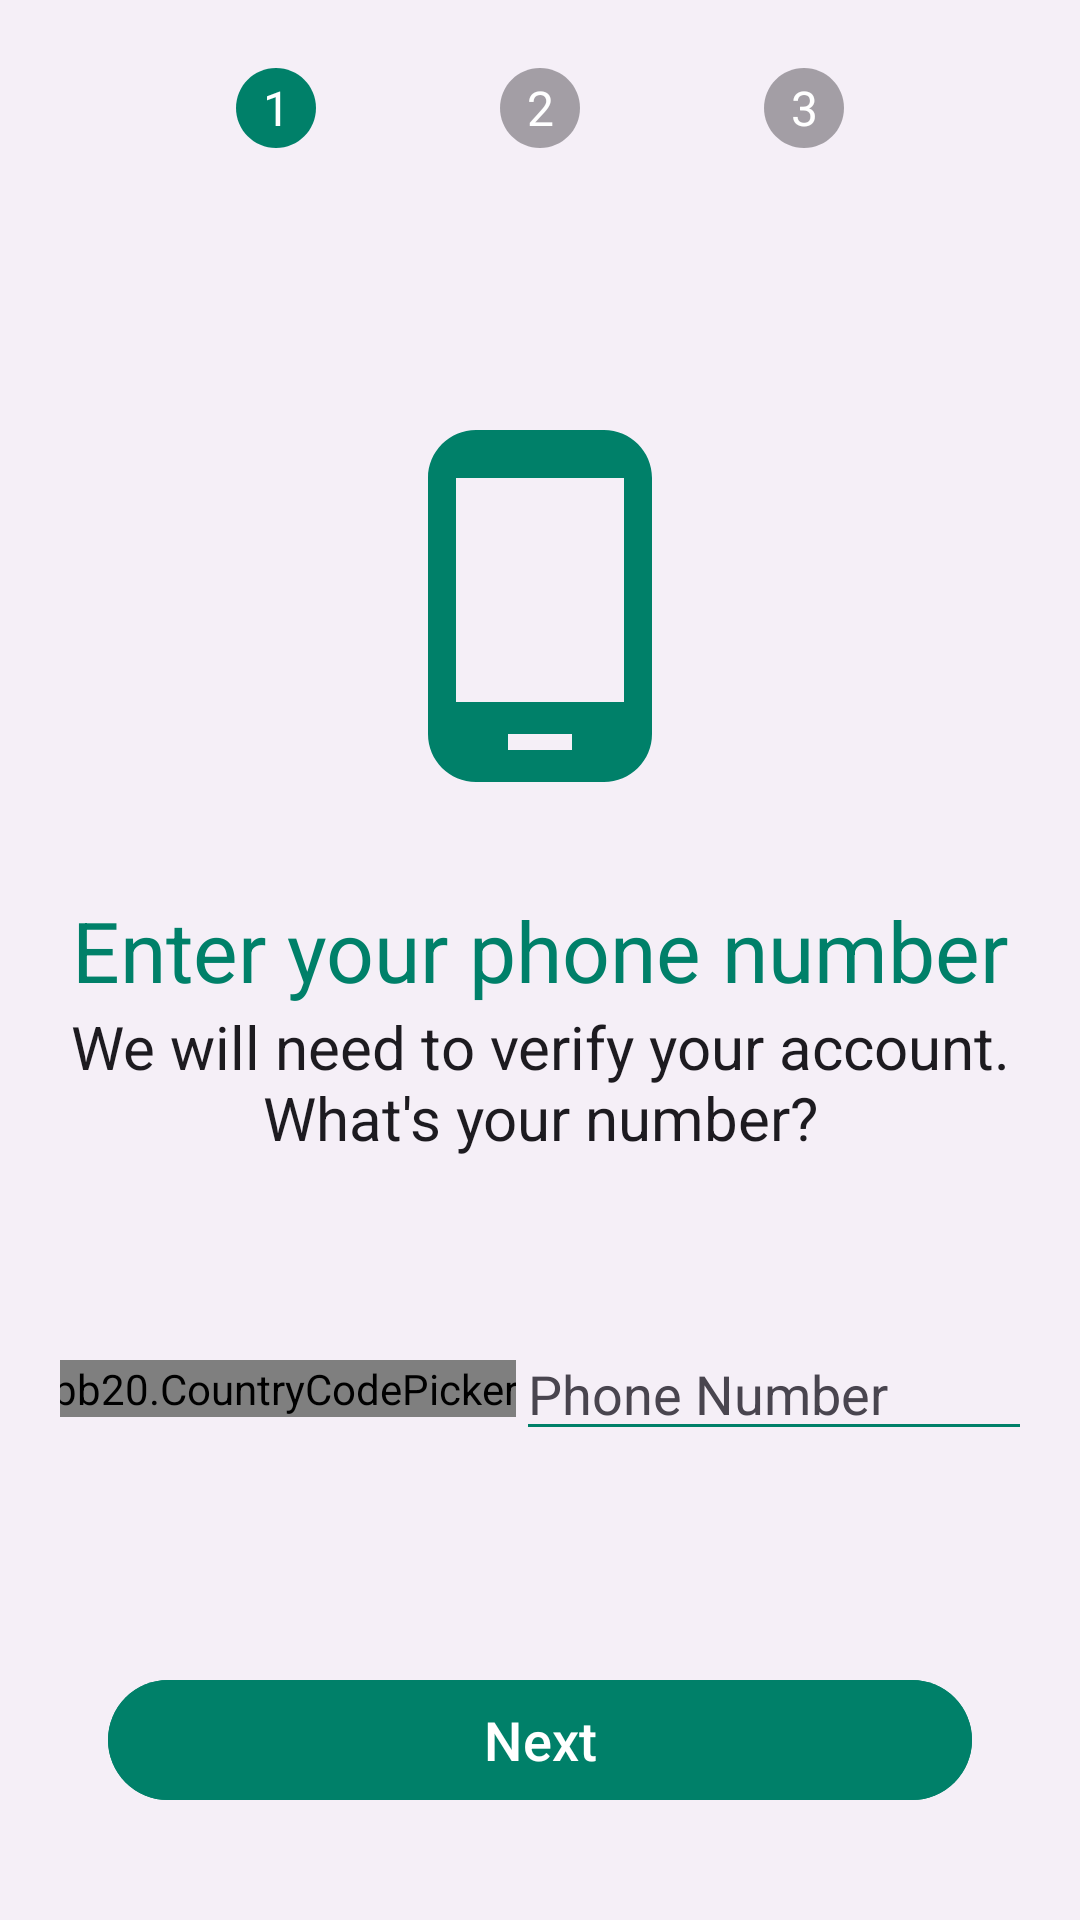

Locate icon controls on the screen. Image size 1080*1920, boxes as {"left": x1, "top": y1, "right": x2, "bottom": y2}.
phone android: {"left": 428, "top": 430, "right": 652, "bottom": 782}
